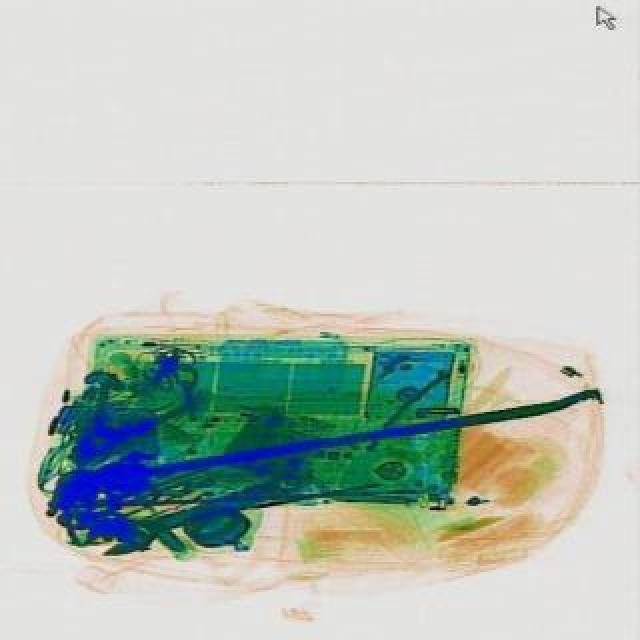scissors: (76, 456, 300, 564)
